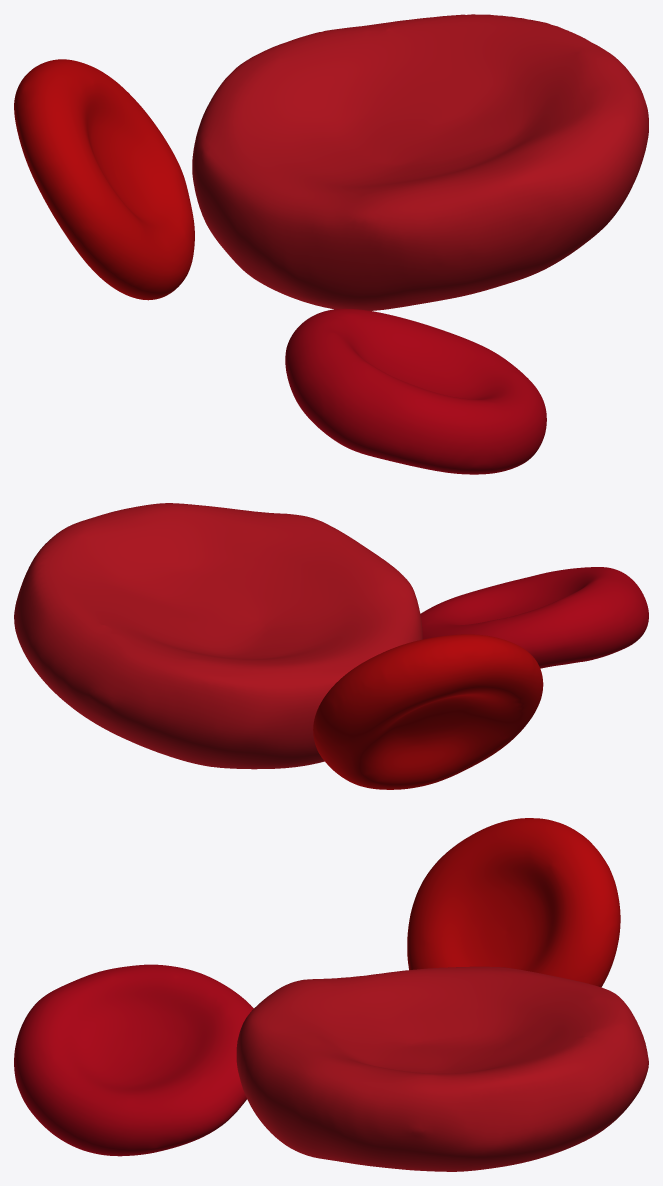
3 views of the same model, one above another, from view 1: azimuth 30°, elevation 25°; view 2: azimuth 150°, elevation 25°; view 3: azimuth 270°, elevation 25° (orthographic). The views are drawn at different scales.
Parts seen in each view (by area): view 1: discocyte1.001_0, discocyte3.001_2, discocyte2.001_1; view 2: discocyte1.001_0, discocyte2.001_1, discocyte3.001_2; view 3: discocyte1.001_0, discocyte3.001_2, discocyte2.001_1.
Boxes of the visible parts, x1,y1,x2,y2 form: discocyte1.001_0: (192, 14, 648, 310); discocyte3.001_2: (285, 308, 546, 474); discocyte2.001_1: (14, 59, 194, 300); discocyte1.001_0: (14, 503, 422, 769); discocyte2.001_1: (313, 634, 543, 789); discocyte3.001_2: (420, 567, 648, 668); discocyte1.001_0: (236, 966, 648, 1171); discocyte3.001_2: (14, 964, 253, 1156); discocyte2.001_1: (407, 818, 620, 987).
Size of the model in its own units: 1.11 by 0.4737 by 1.19.
